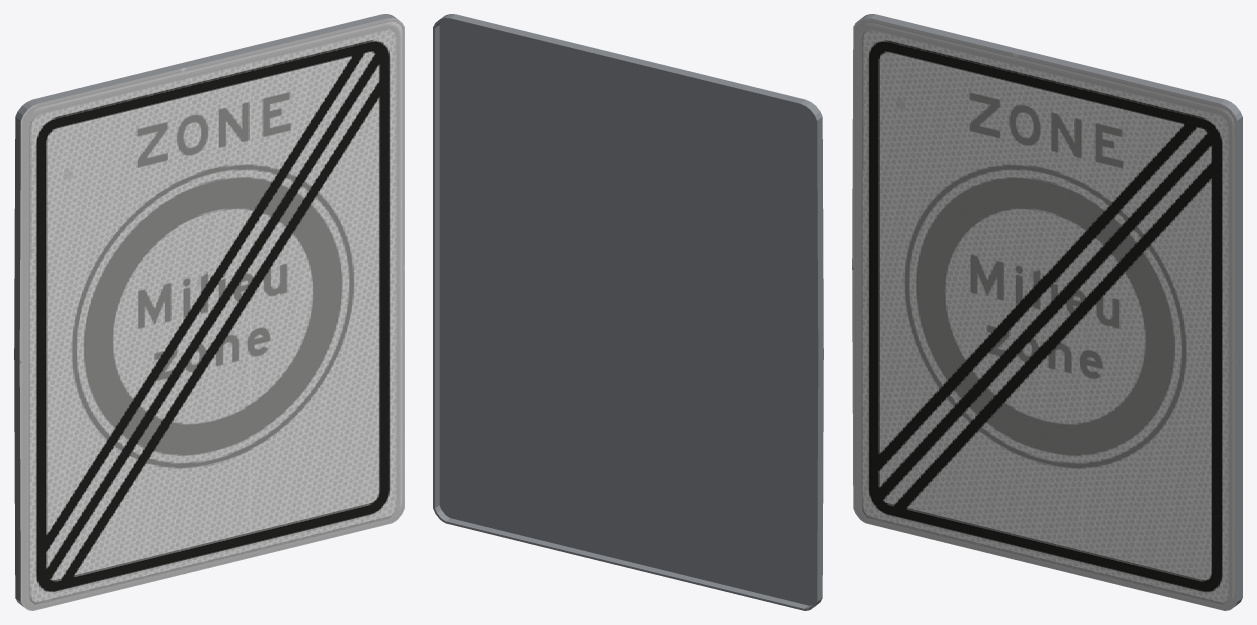
3 views of the same model, side by side, from view 1: azimuth 30°, elevation 25°; view 2: azimuth 150°, elevation 25°; view 3: azimuth 330°, elevation 25° (orthographic).
Parts seen in each view (by area): view 1: cat_5bded1821fae22b4; view 2: cat_5bded1821fae22b4; view 3: cat_5bded1821fae22b4.
Part boxes in pixels (x1,y1,x2,y2): cat_5bded1821fae22b4: [14, 14, 404, 610]; cat_5bded1821fae22b4: [433, 14, 823, 610]; cat_5bded1821fae22b4: [852, 14, 1242, 610].
Bounding box in the file's own units: 0.6 × 0.015 × 0.7535.
2 materials, 1 textured.
